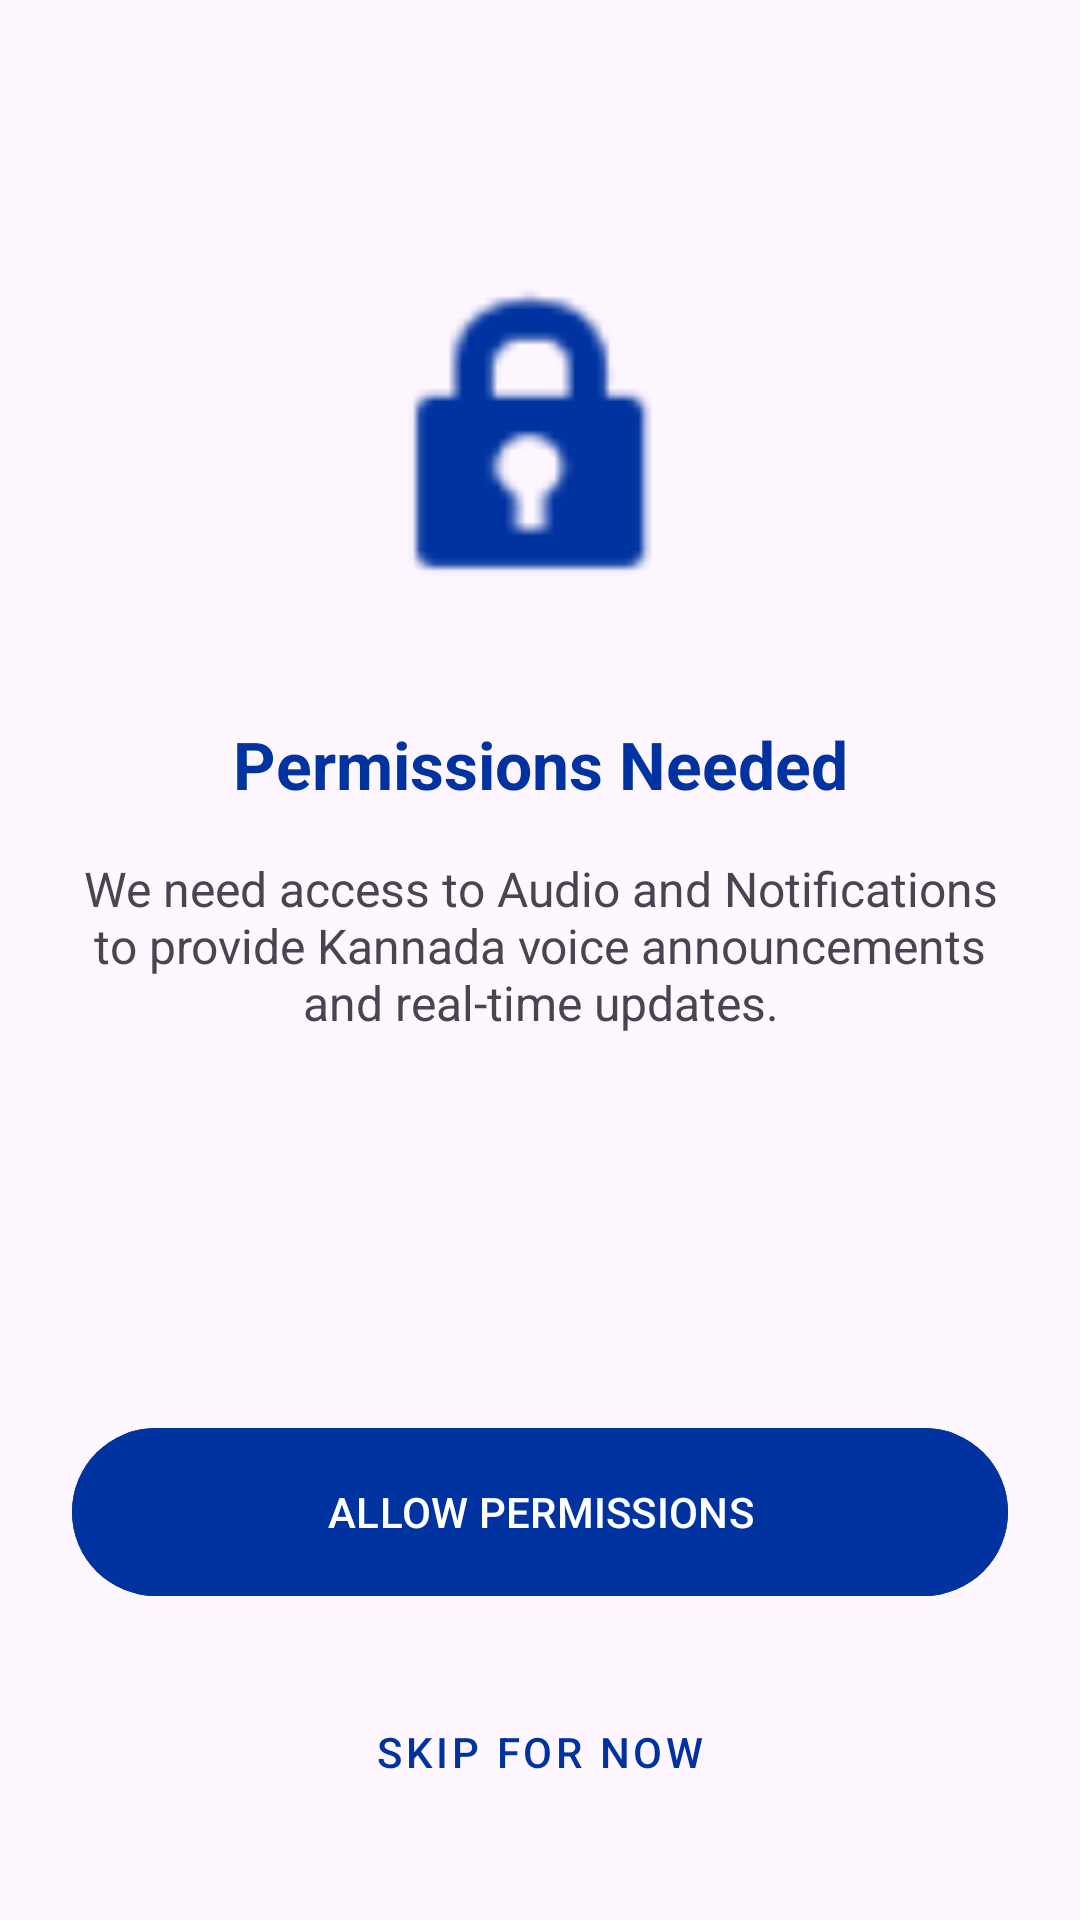

Icon click points for this 1080 × 1920 phone screenshot, format point (x, y):
lock idle: point (531, 432)
